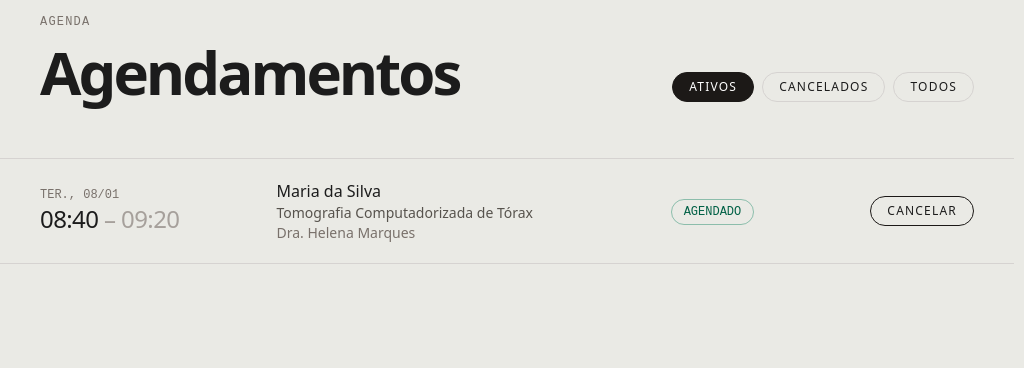
ListaDeAgendamentos › cancela em dois passos e atualiza a lista
This screenshot has width=1024, height=368.
Click the button "Cancelar" at (922, 211), box [870,196,974,226]
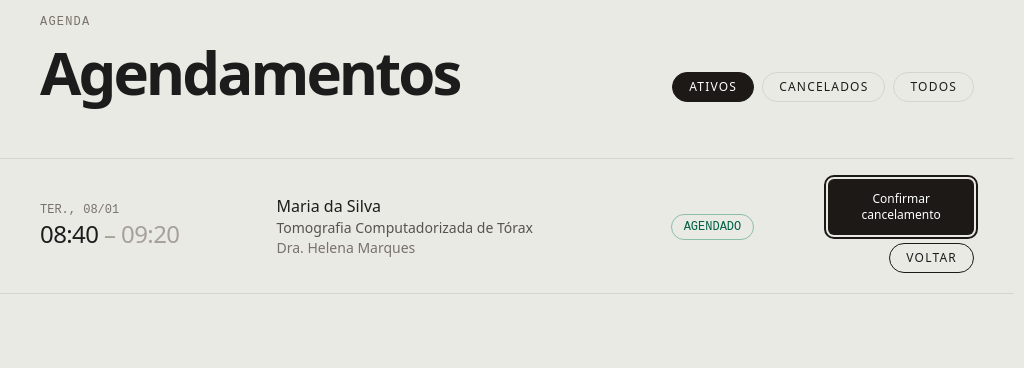
Click the button "Confirmar cancelamento" at (901, 207), box [828,179,974,235]
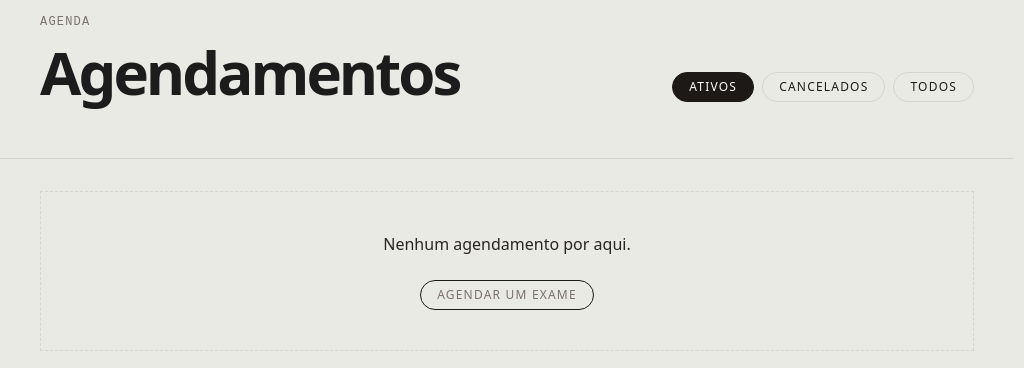
Expected: the text "Nenhum agendamento por aqui." is shown, [383,233,631,255]
